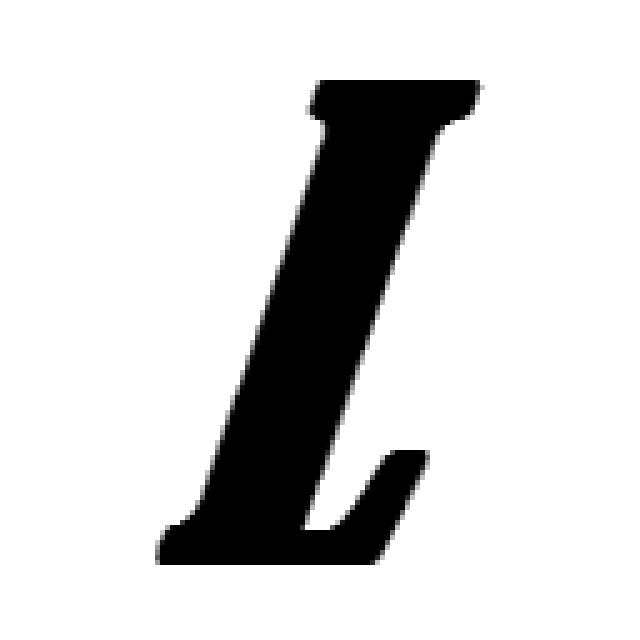L: (155, 72, 484, 567)
